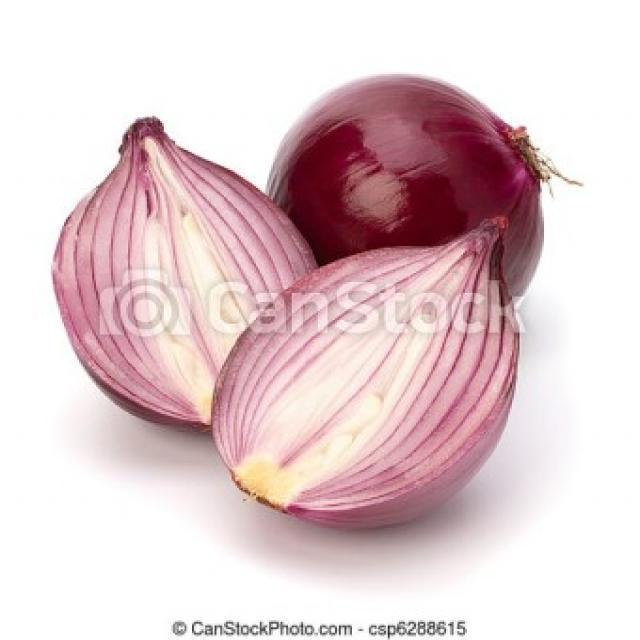onion: (198, 213, 558, 521), (37, 101, 277, 422), (276, 56, 571, 293)
